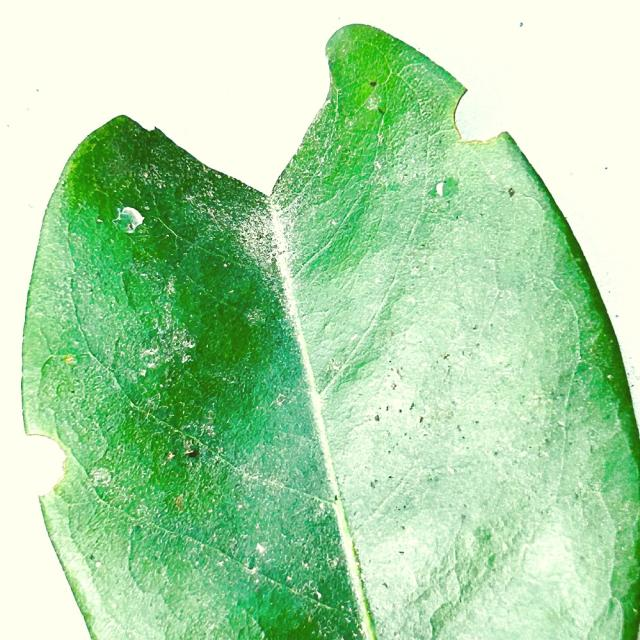Deficiency Leaf: (101, 68, 319, 193), (452, 74, 515, 145), (15, 435, 78, 502)
Lychee: (19, 22, 639, 639)
